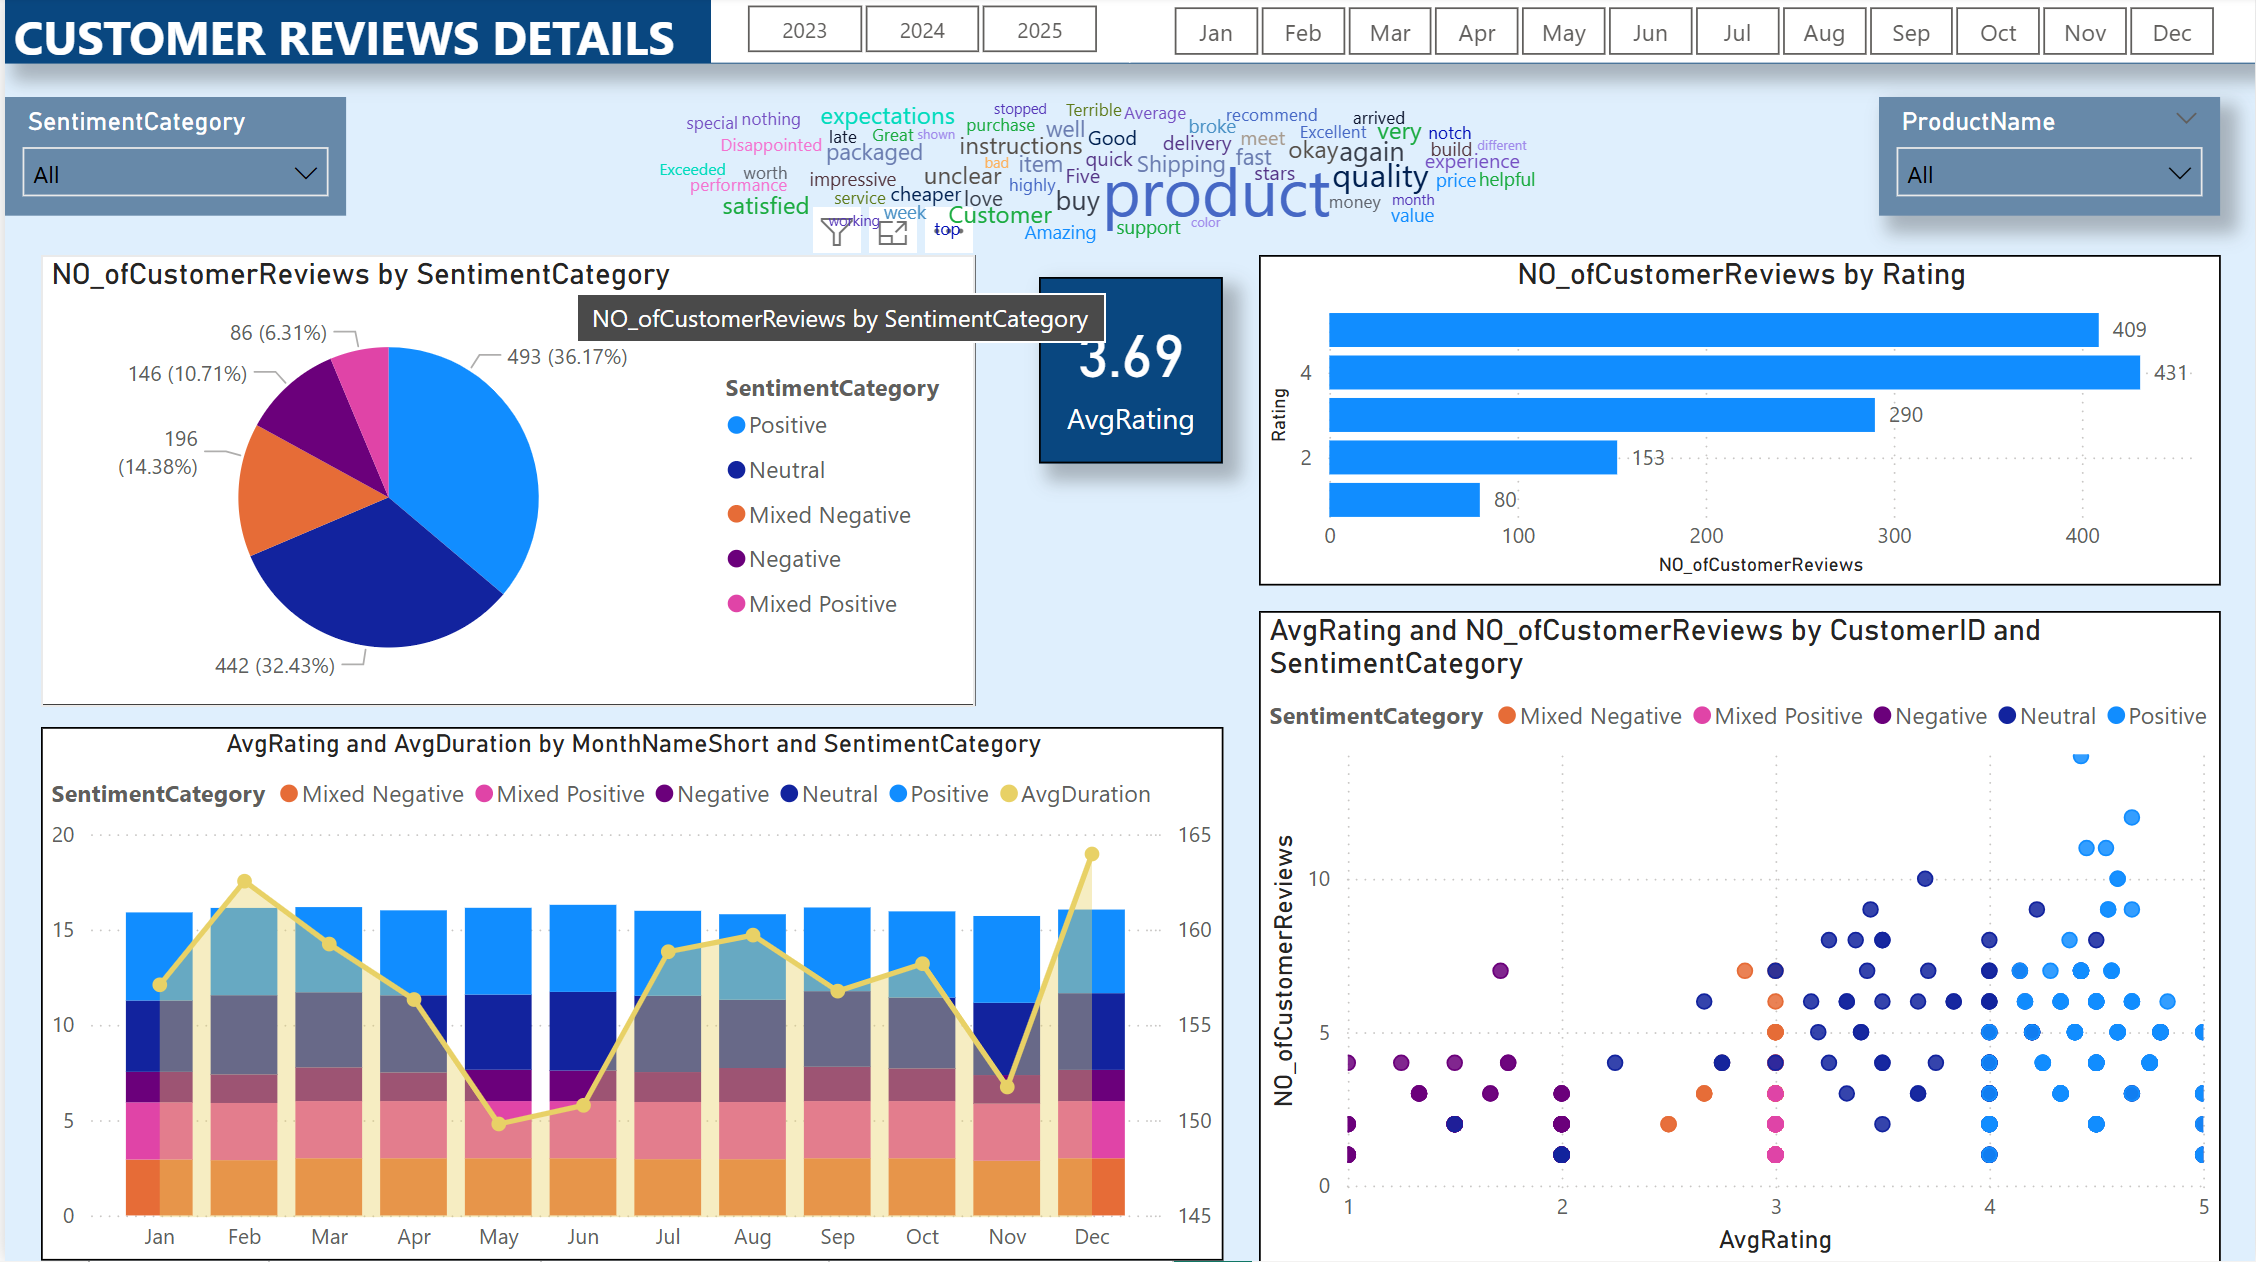

Layout of this report page (visuals, bound fields, positions):
{"tool":"powerbi","page":{"name":"CustomerReview Details","canvas":[1280,720],"ordinal":3},"visuals":[{"type":"textbox","box":[0,0,1280,38.8],"z":0},{"type":"slicer","fields":{"Values":["dim_products.ProductName"]},"box":[1066.3,57.8,194,67.5],"z":1000},{"type":"card","fields":{"Values":["Calcultions_Measures.AvgRating"]},"box":[587.7,160.6,104.5,105.8],"z":2000},{"type":"slicer","fields":{"Values":["Calendar.Year"]},"box":[401.2,0,238.6,38.6],"z":3000},{"type":"slicer","fields":{"Values":["Calendar.MonthNameShort"]},"box":[639.8,0,641,38.6],"z":4000},{"type":"lineStackedColumnComboChart","fields":{"Category":["Calendar.MonthNameShort"],"Series":["fact_customer_reviews_with_sentiment.SentimentCategory"],"Y":["Calcultions_Measures.AvgRating"],"Y2":["Calcultions_Measures.AvgDuration"]},"box":[20.5,416.9,672.3,303.6],"z":5000},{"type":"slicer","fields":{"Values":["fact_customer_reviews_with_sentiment.SentimentCategory"]},"box":[0,57.8,194,67.5],"z":6000},{"type":"clusteredBarChart","fields":{"Category":["fact_customer_reviews_with_sentiment.Rating"],"Y":["Calcultions_Measures.NO_ofCustomerReviews"]},"box":[713.3,148.2,547,188],"z":7000},{"type":"scatterChart","fields":{"Y":["Calcultions_Measures.NO_ofCustomerReviews"],"X":["Calcultions_Measures.AvgRating"],"Category":["dim_customers.CustomerID"],"Series":["fact_customer_reviews_with_sentiment.SentimentCategory"]},"box":[713.3,350.6,547,371.1],"z":8000},{"type":"pieChart","fields":{"Category":["fact_customer_reviews_with_sentiment.SentimentCategory"],"Y":["Calcultions_Measures.NO_ofCustomerReviews"]},"box":[20.5,148.2,531.3,256.6],"z":9000},{"type":"WordCloud1447959067750","fields":{"Category":["fact_customer_reviews_with_sentiment.ReviewText"]},"box":[357,48.4,710.1,133.9],"z":9001}]}

Visuals, with their boxes in screenshot pixels (x1, y1, x2, y2), scaled from the page's 1280x720 canvas onto the 2256x1262 screenshot:
textbox: [0, 0, 2255, 68]
slicer - dim_products.ProductName: [1879, 101, 2221, 220]
card - Calcultions_Measures.AvgRating: [1036, 281, 1220, 467]
slicer - Calendar.Year: [707, 0, 1128, 68]
slicer - Calendar.MonthNameShort: [1128, 0, 2255, 68]
lineStackedColumnComboChart - Calendar.MonthNameShort x fact_customer_reviews_with_sentiment.SentimentCategory: [36, 731, 1221, 1261]
slicer - fact_customer_reviews_with_sentiment.SentimentCategory: [0, 101, 342, 220]
clusteredBarChart - fact_customer_reviews_with_sentiment.Rating x Calcultions_Measures.NO_ofCustomerReviews: [1257, 260, 2221, 589]
scatterChart - Calcultions_Measures.NO_ofCustomerReviews x Calcultions_Measures.AvgRating: [1257, 615, 2221, 1261]
pieChart - fact_customer_reviews_with_sentiment.SentimentCategory x Calcultions_Measures.NO_ofCustomerReviews: [36, 260, 973, 710]
WordCloud1447959067750 - fact_customer_reviews_with_sentiment.ReviewText: [629, 85, 1881, 320]
